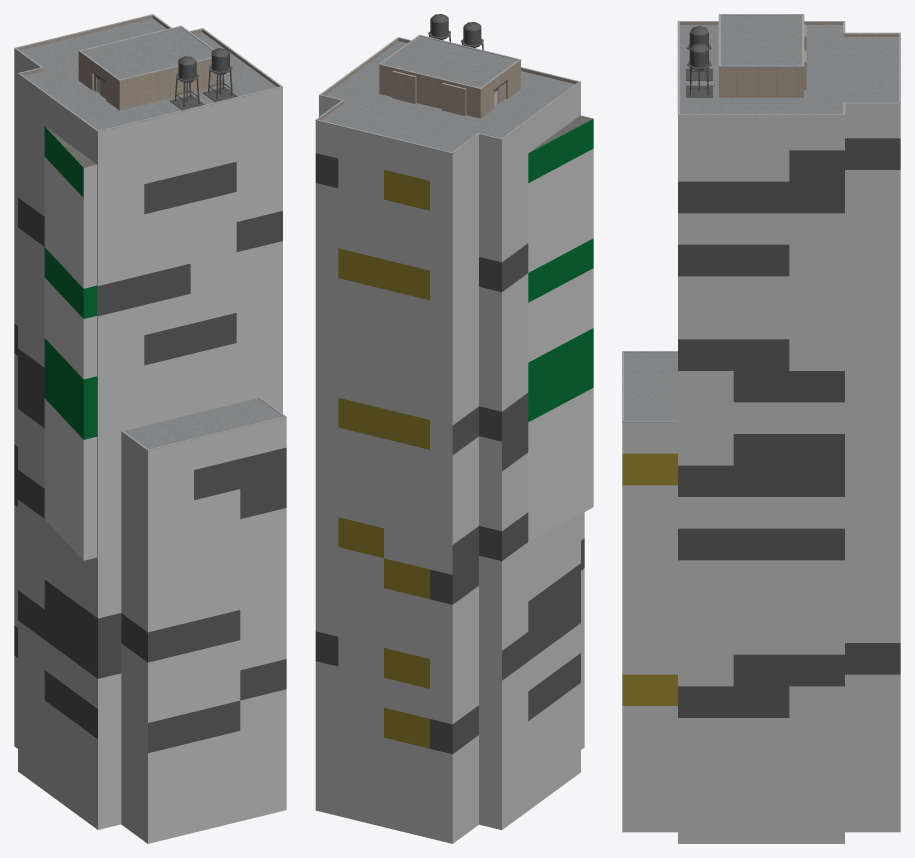
Rendered from mcp_building_26_distant.FBX.
3 renders of one model, left to right at view 1: azimuth 30°, elevation 25°; view 2: azimuth 150°, elevation 25°; view 3: azimuth 270°, elevation 25°, orthographic. The views are drawn at different scales.
Visible parts, largest first — view 1: mcp_building_26_walls, mcp_building_26_metal, mcp_building_26_props_01; view 2: mcp_building_26_walls, mcp_building_26_metal, mcp_building_26_props_01; view 3: mcp_building_26_walls, mcp_building_26_metal, mcp_building_26_props_01.
Boxes of the visible parts, x1,y1,x2,y2 form: mcp_building_26_walls: [14, 15, 286, 843]; mcp_building_26_metal: [14, 14, 286, 450]; mcp_building_26_props_01: [170, 48, 237, 110]; mcp_building_26_walls: [315, 36, 593, 843]; mcp_building_26_metal: [315, 34, 580, 153]; mcp_building_26_props_01: [428, 14, 483, 50]; mcp_building_26_walls: [622, 15, 900, 843]; mcp_building_26_metal: [622, 14, 900, 422]; mcp_building_26_props_01: [686, 26, 712, 97].
Bounding box in the file's own units: 4008 × 14282 × 4672.
